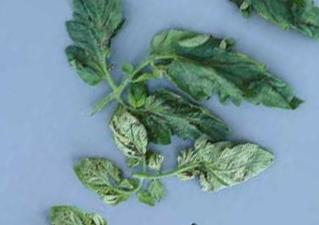Tomato leaf bacterial spot: (131, 4, 318, 151), (172, 113, 285, 217), (32, 0, 149, 89), (93, 104, 163, 172)
